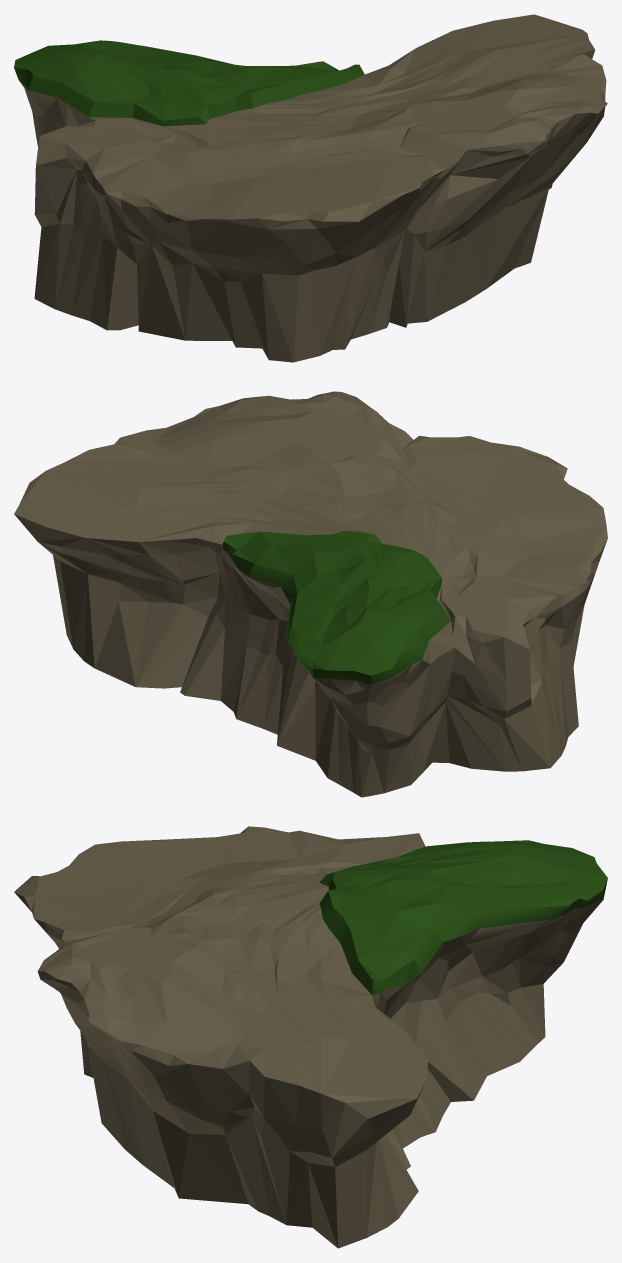
The model's file is ENV_Island_Cliff_03_Small.fbx.
3 views of the same model, one above another, from view 1: azimuth 30°, elevation 25°; view 2: azimuth 150°, elevation 25°; view 3: azimuth 270°, elevation 25° (orthographic). The views are drawn at different scales.
Visible parts, largest first — view 1: ENV_Island_Cliff_03_Small; view 2: ENV_Island_Cliff_03_Small; view 3: ENV_Island_Cliff_03_Small.
Boxes of the visible parts, x1=… form: ENV_Island_Cliff_03_Small: x1=14, y1=14, x2=607, y2=362; ENV_Island_Cliff_03_Small: x1=14, y1=391, x2=607, y2=797; ENV_Island_Cliff_03_Small: x1=14, y1=826, x2=607, y2=1248.
Size of the model in its own units: 2167 by 730 by 1869.
